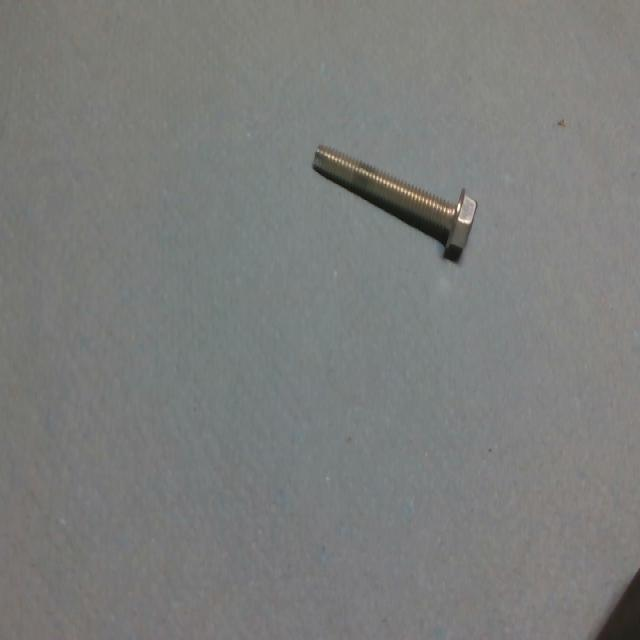Bolt: (312, 145, 475, 261)
